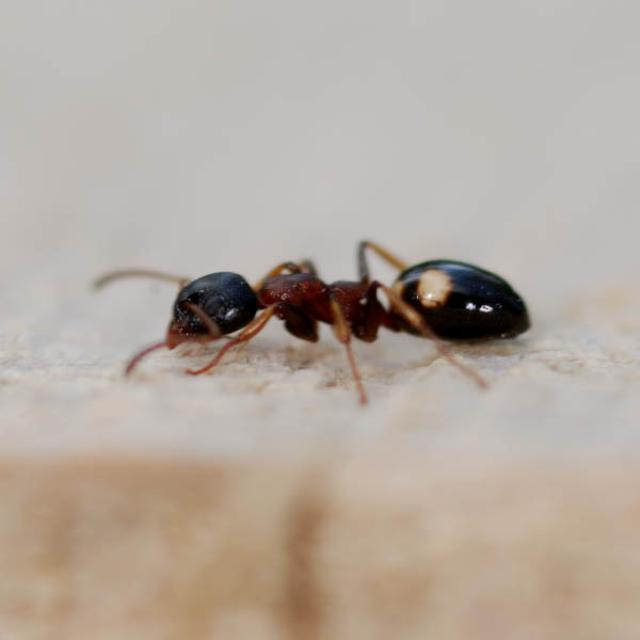Dolichoderus: (135, 195, 550, 399)
